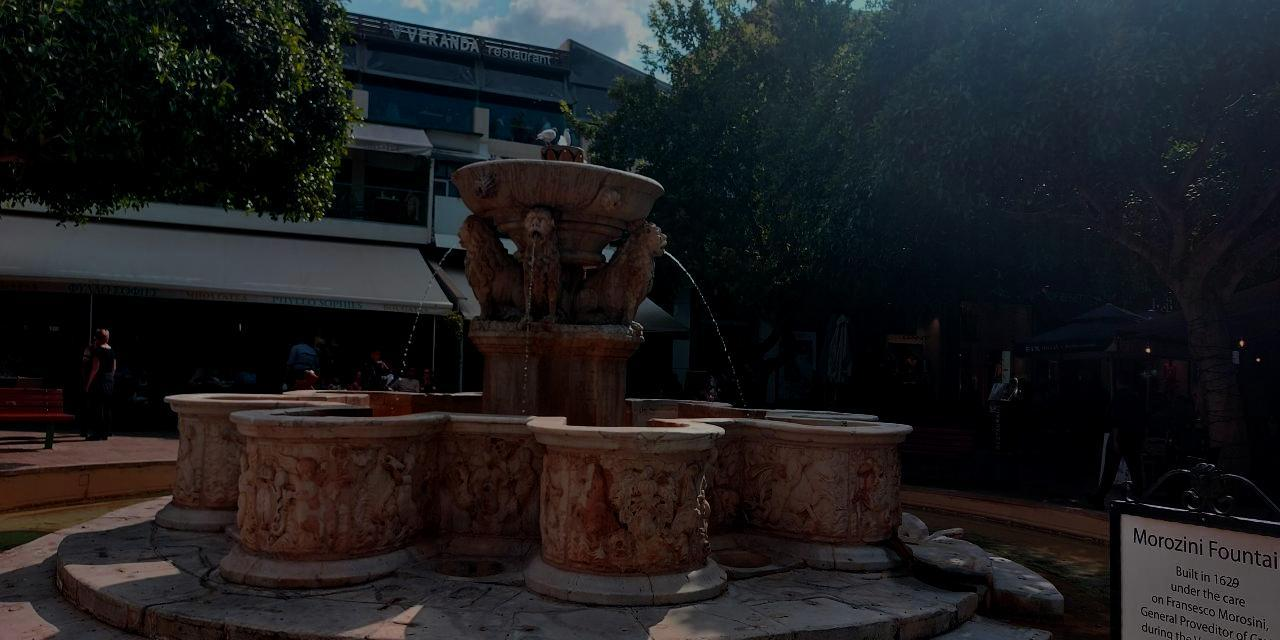Liontaria: (163, 138, 918, 609)
